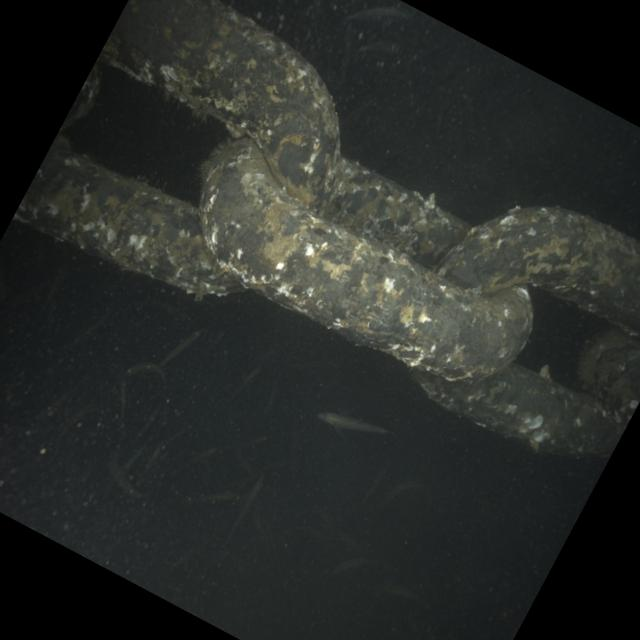ChainLink: (199, 139, 531, 379), (97, 0, 337, 202), (13, 141, 237, 294), (436, 207, 640, 335), (416, 364, 621, 453), (579, 329, 640, 430), (60, 63, 100, 128)
